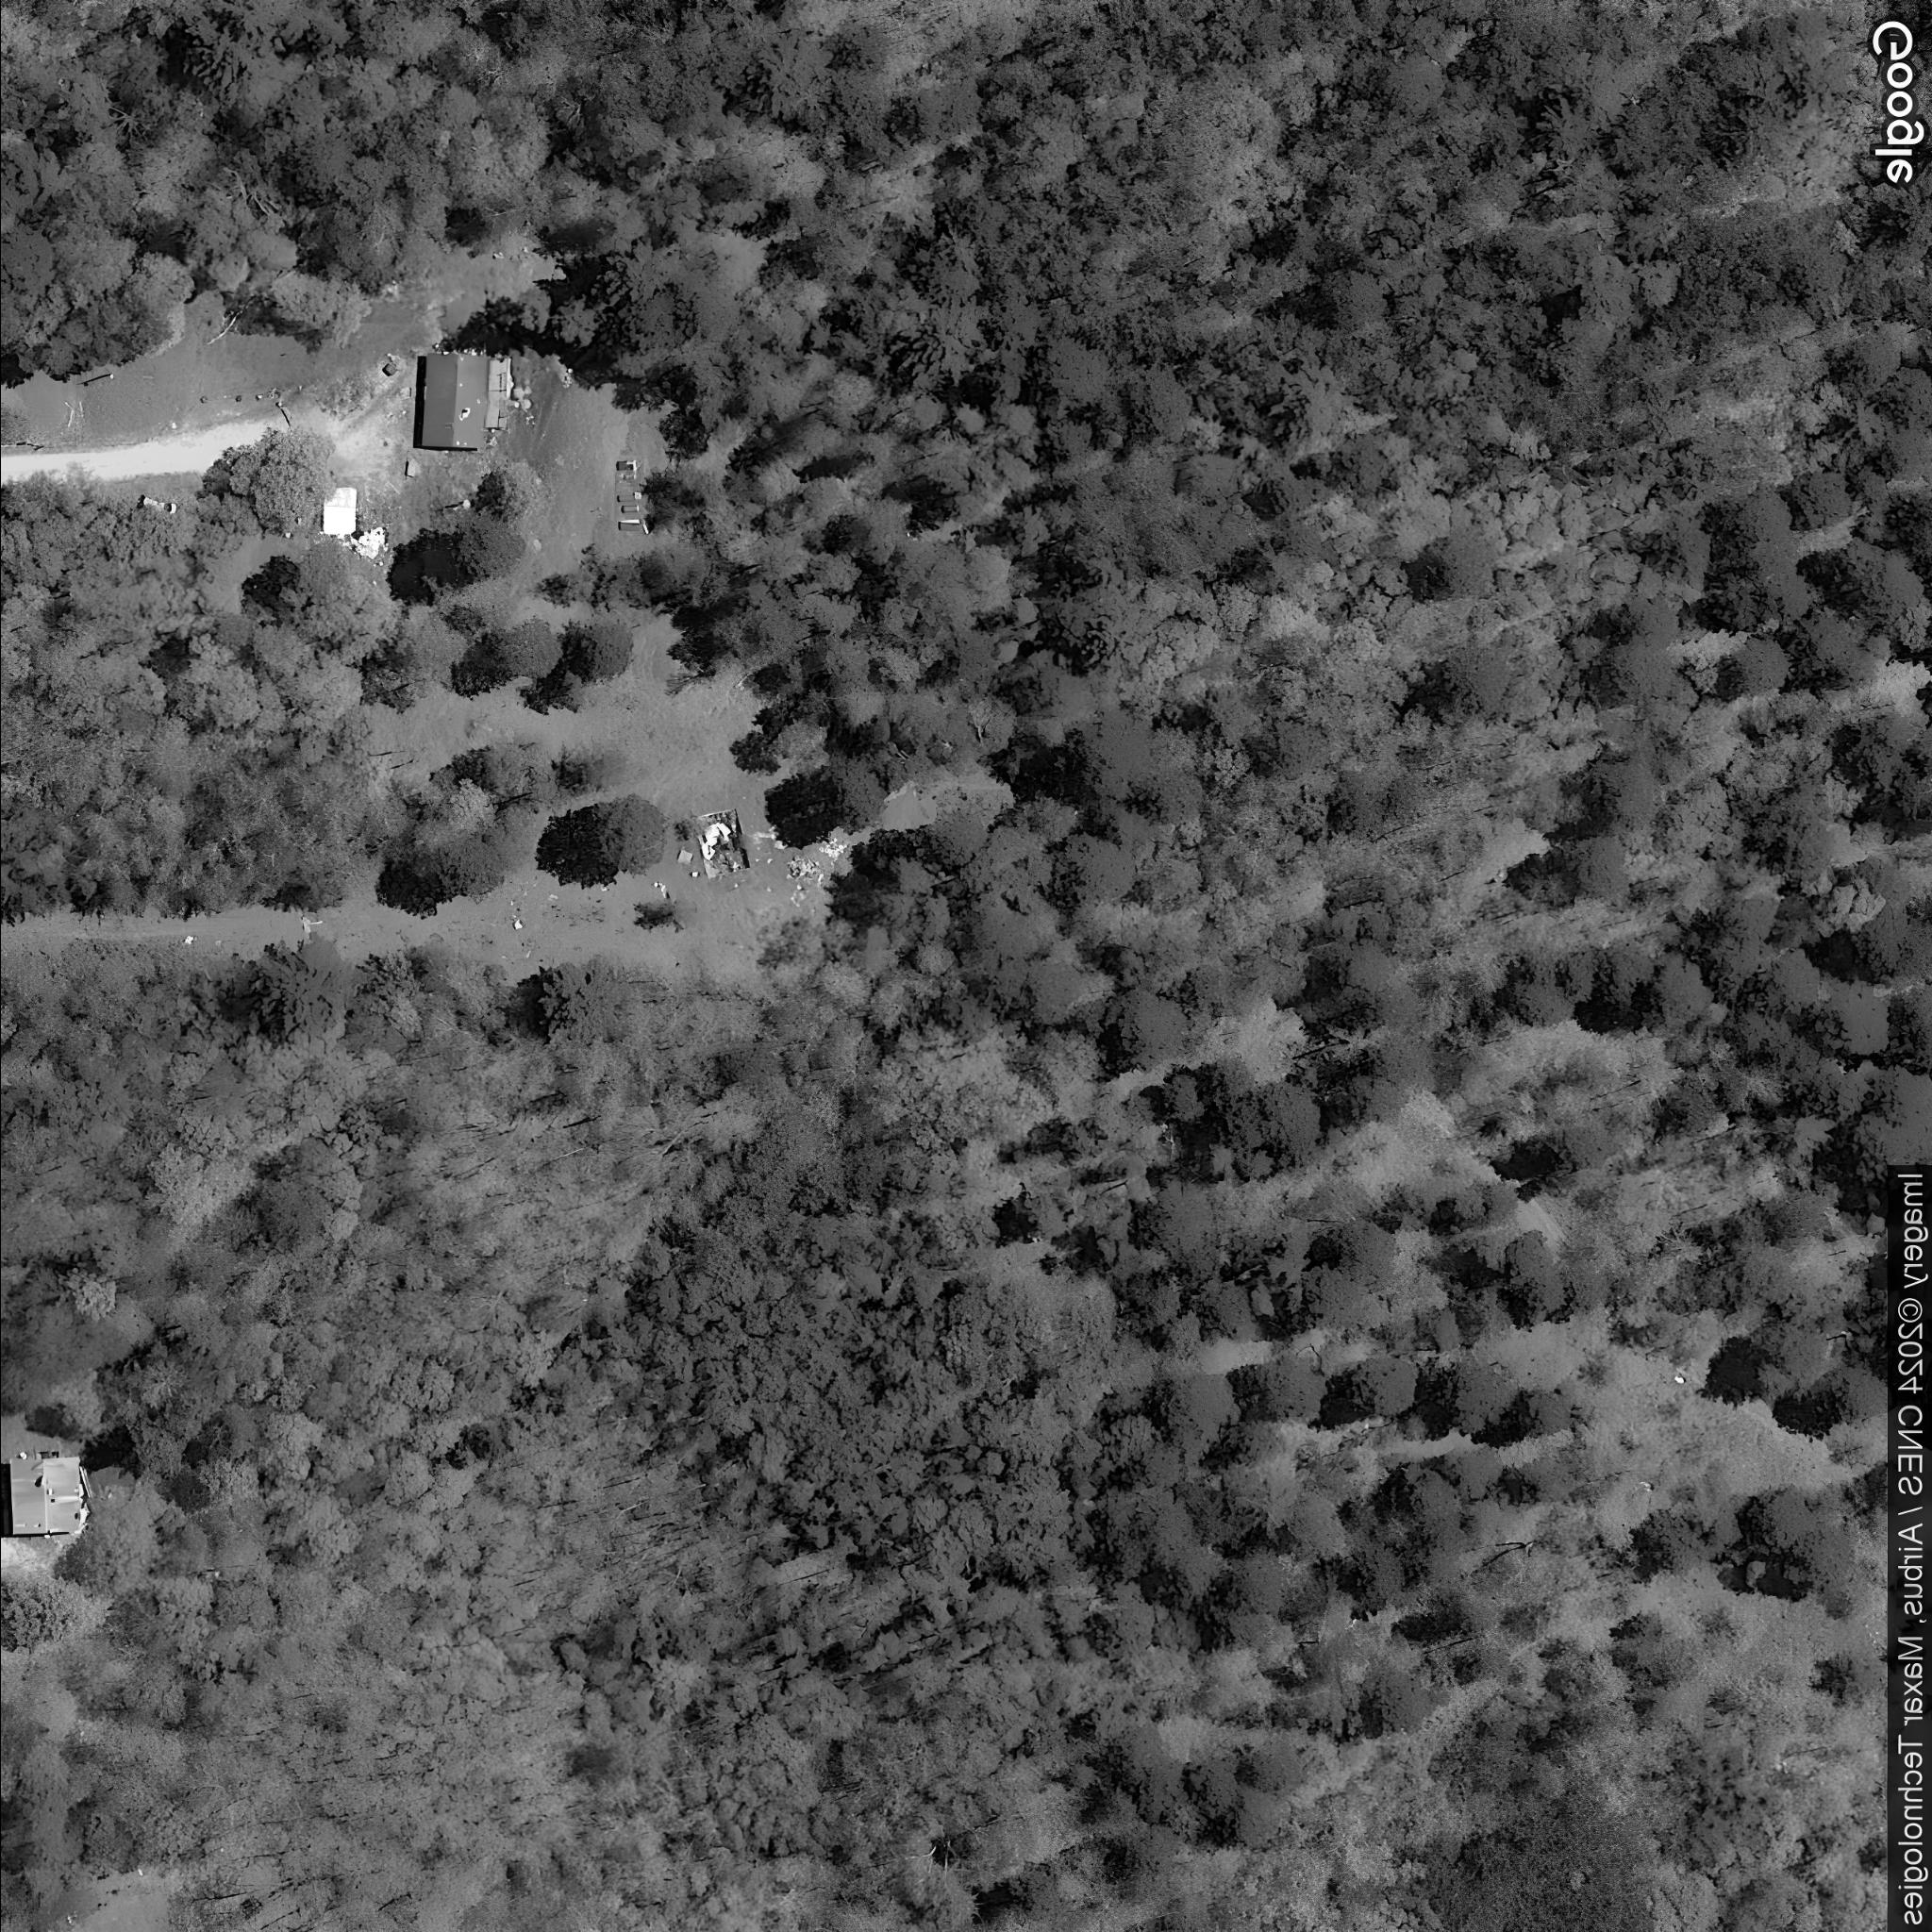House: (419, 352, 488, 451), (9, 1454, 85, 1537)
